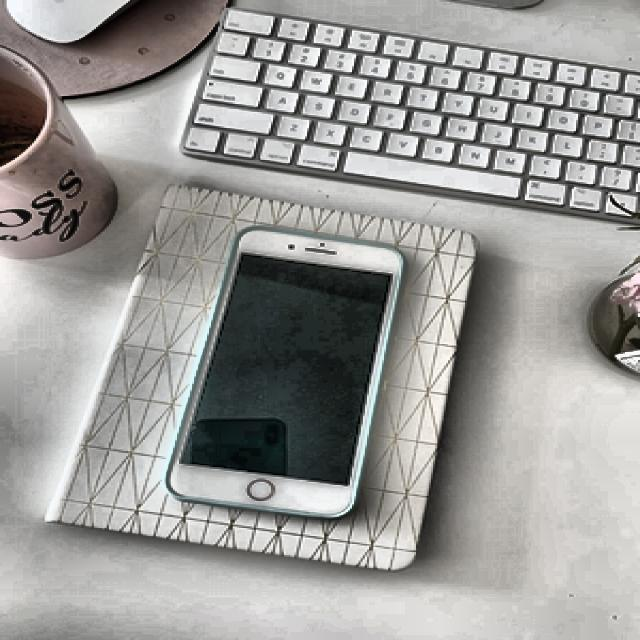Phone: (159, 220, 412, 526)
